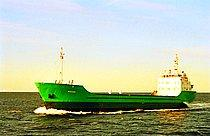Ship: (33, 47, 200, 115)
